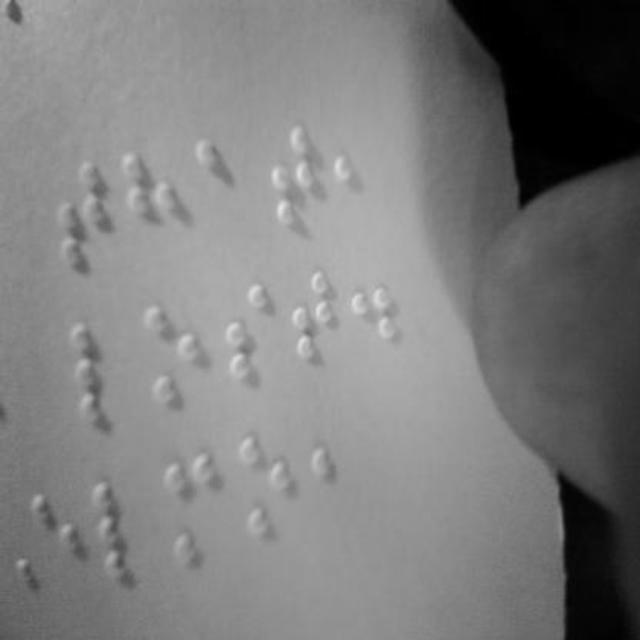braiile: (90, 468, 154, 588), (114, 152, 180, 266), (232, 429, 296, 541), (281, 266, 341, 382), (323, 116, 381, 232), (259, 130, 317, 244), (138, 306, 200, 412), (164, 448, 220, 562), (49, 168, 107, 274), (64, 318, 122, 422), (188, 139, 242, 249), (33, 486, 89, 592), (216, 284, 270, 388)
